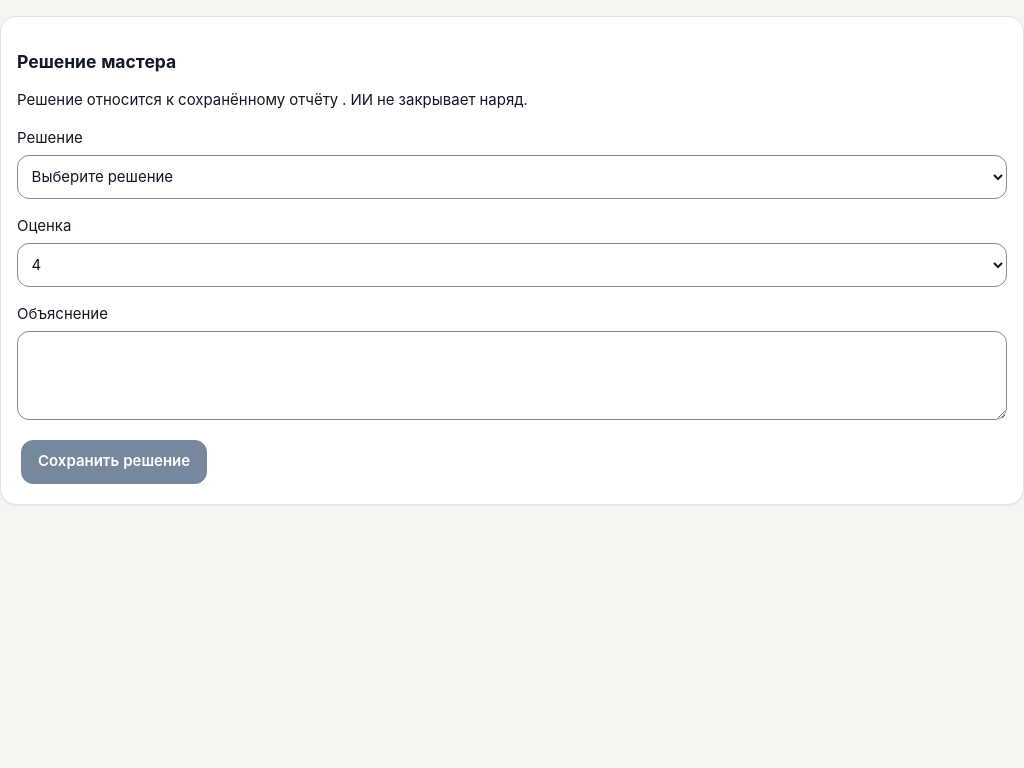
reloads a conflict and requires a new explicit selection
Select "Принять и закрыть" in the dropdown named "decision" at (512, 177), box [17,155,1007,199]
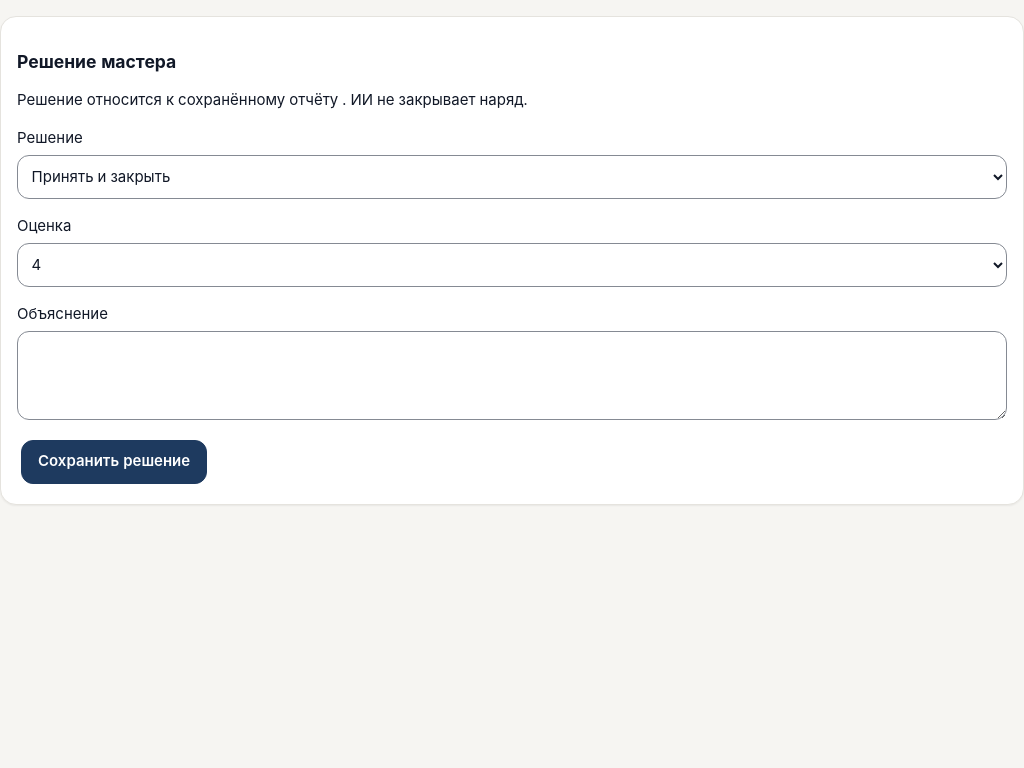
Click the submit button at (114, 462), box [21,440,207,484]
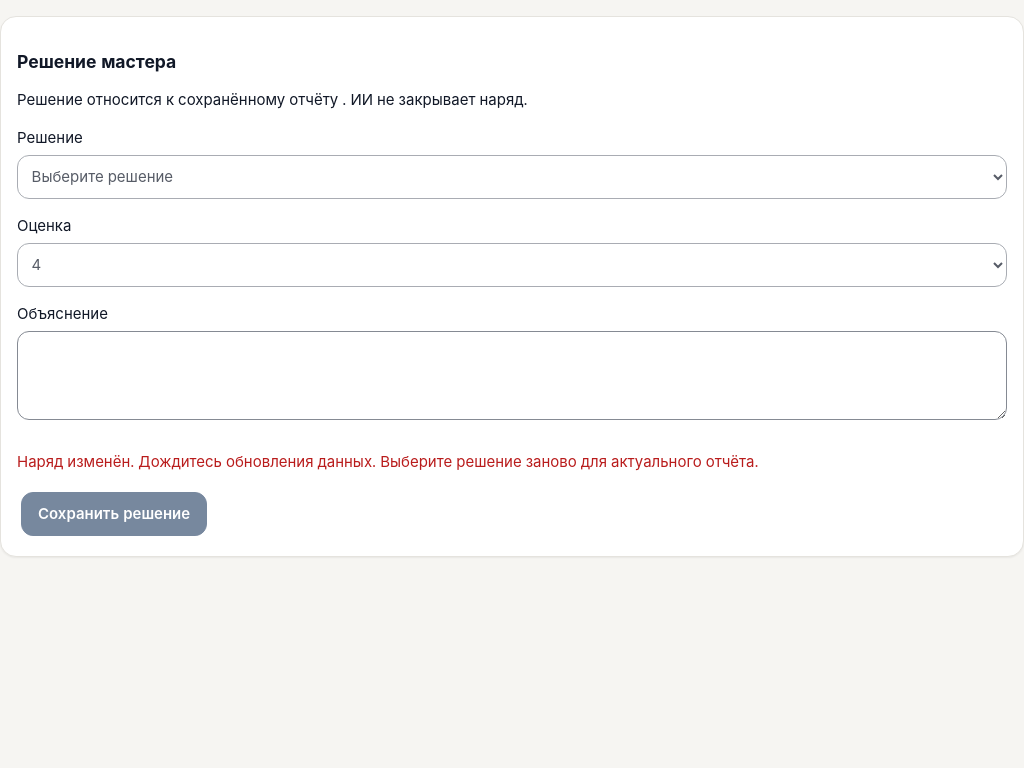
Result: the submit button is disabled at [21,492,207,536]
Result: the text "Выберите решение заново" is shown at [130,452,759,471]
Select "Принять и закрыть" in the dropdown named "decision" at (512, 177), box [17,155,1007,199]
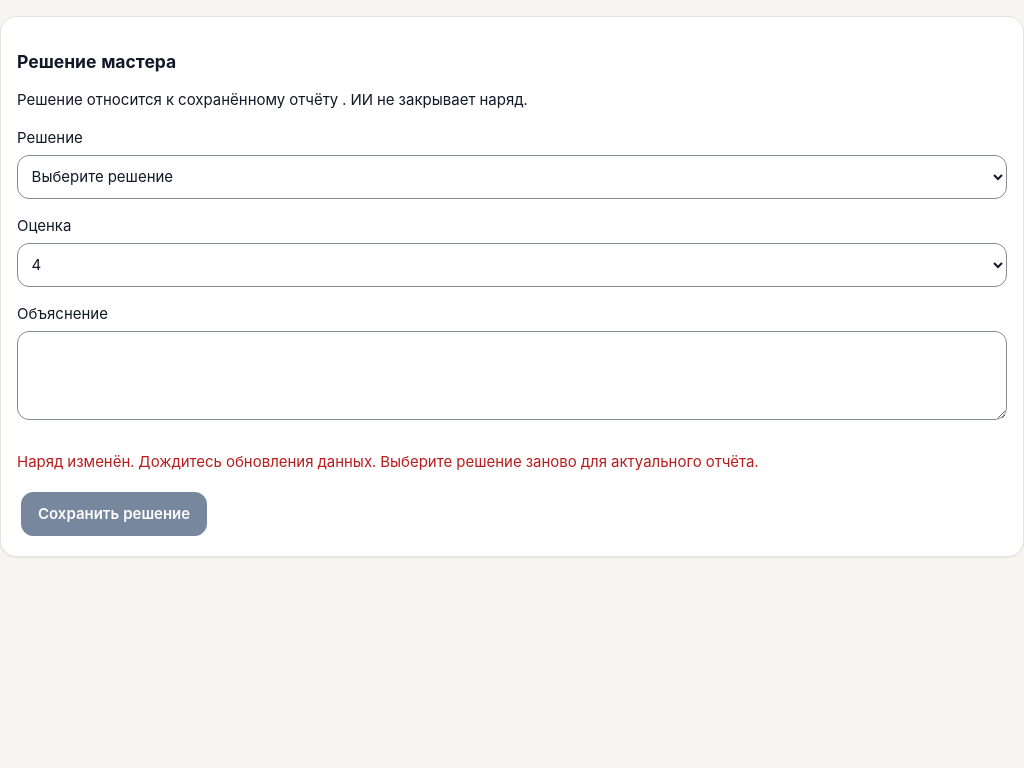
Result: the submit button is disabled at [21,492,207,536]
Select "Принять и закрыть" in the dropdown named "decision" at (512, 177), box [17,155,1007,199]
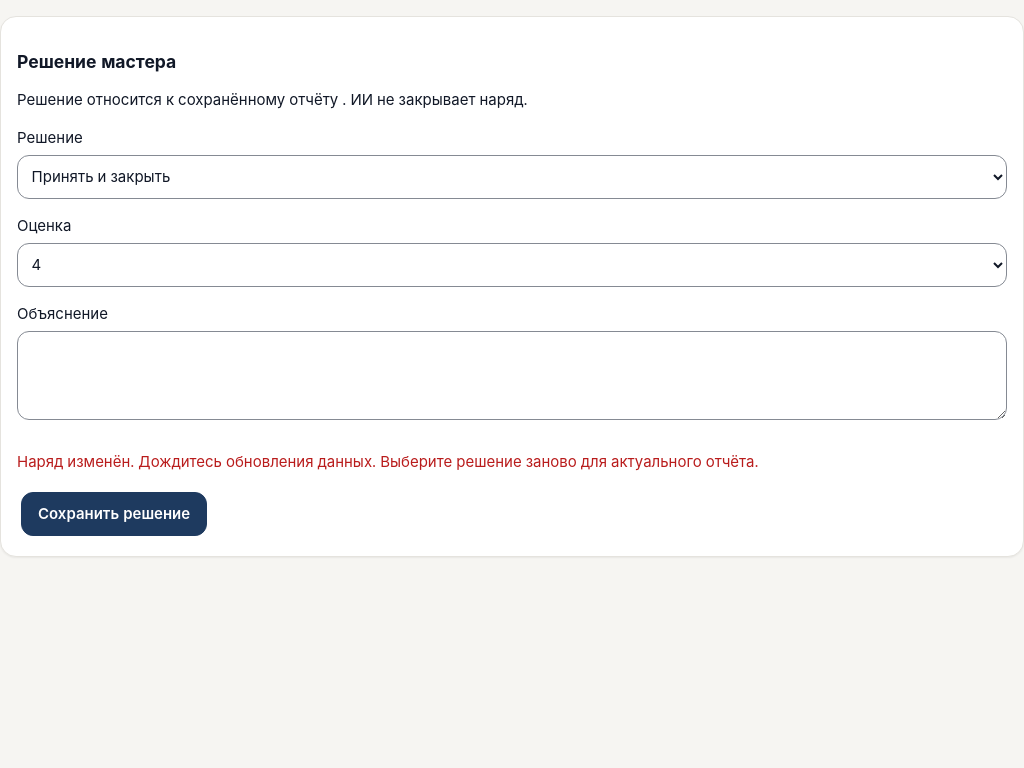
Result: the submit button is enabled at [21,492,207,536]
